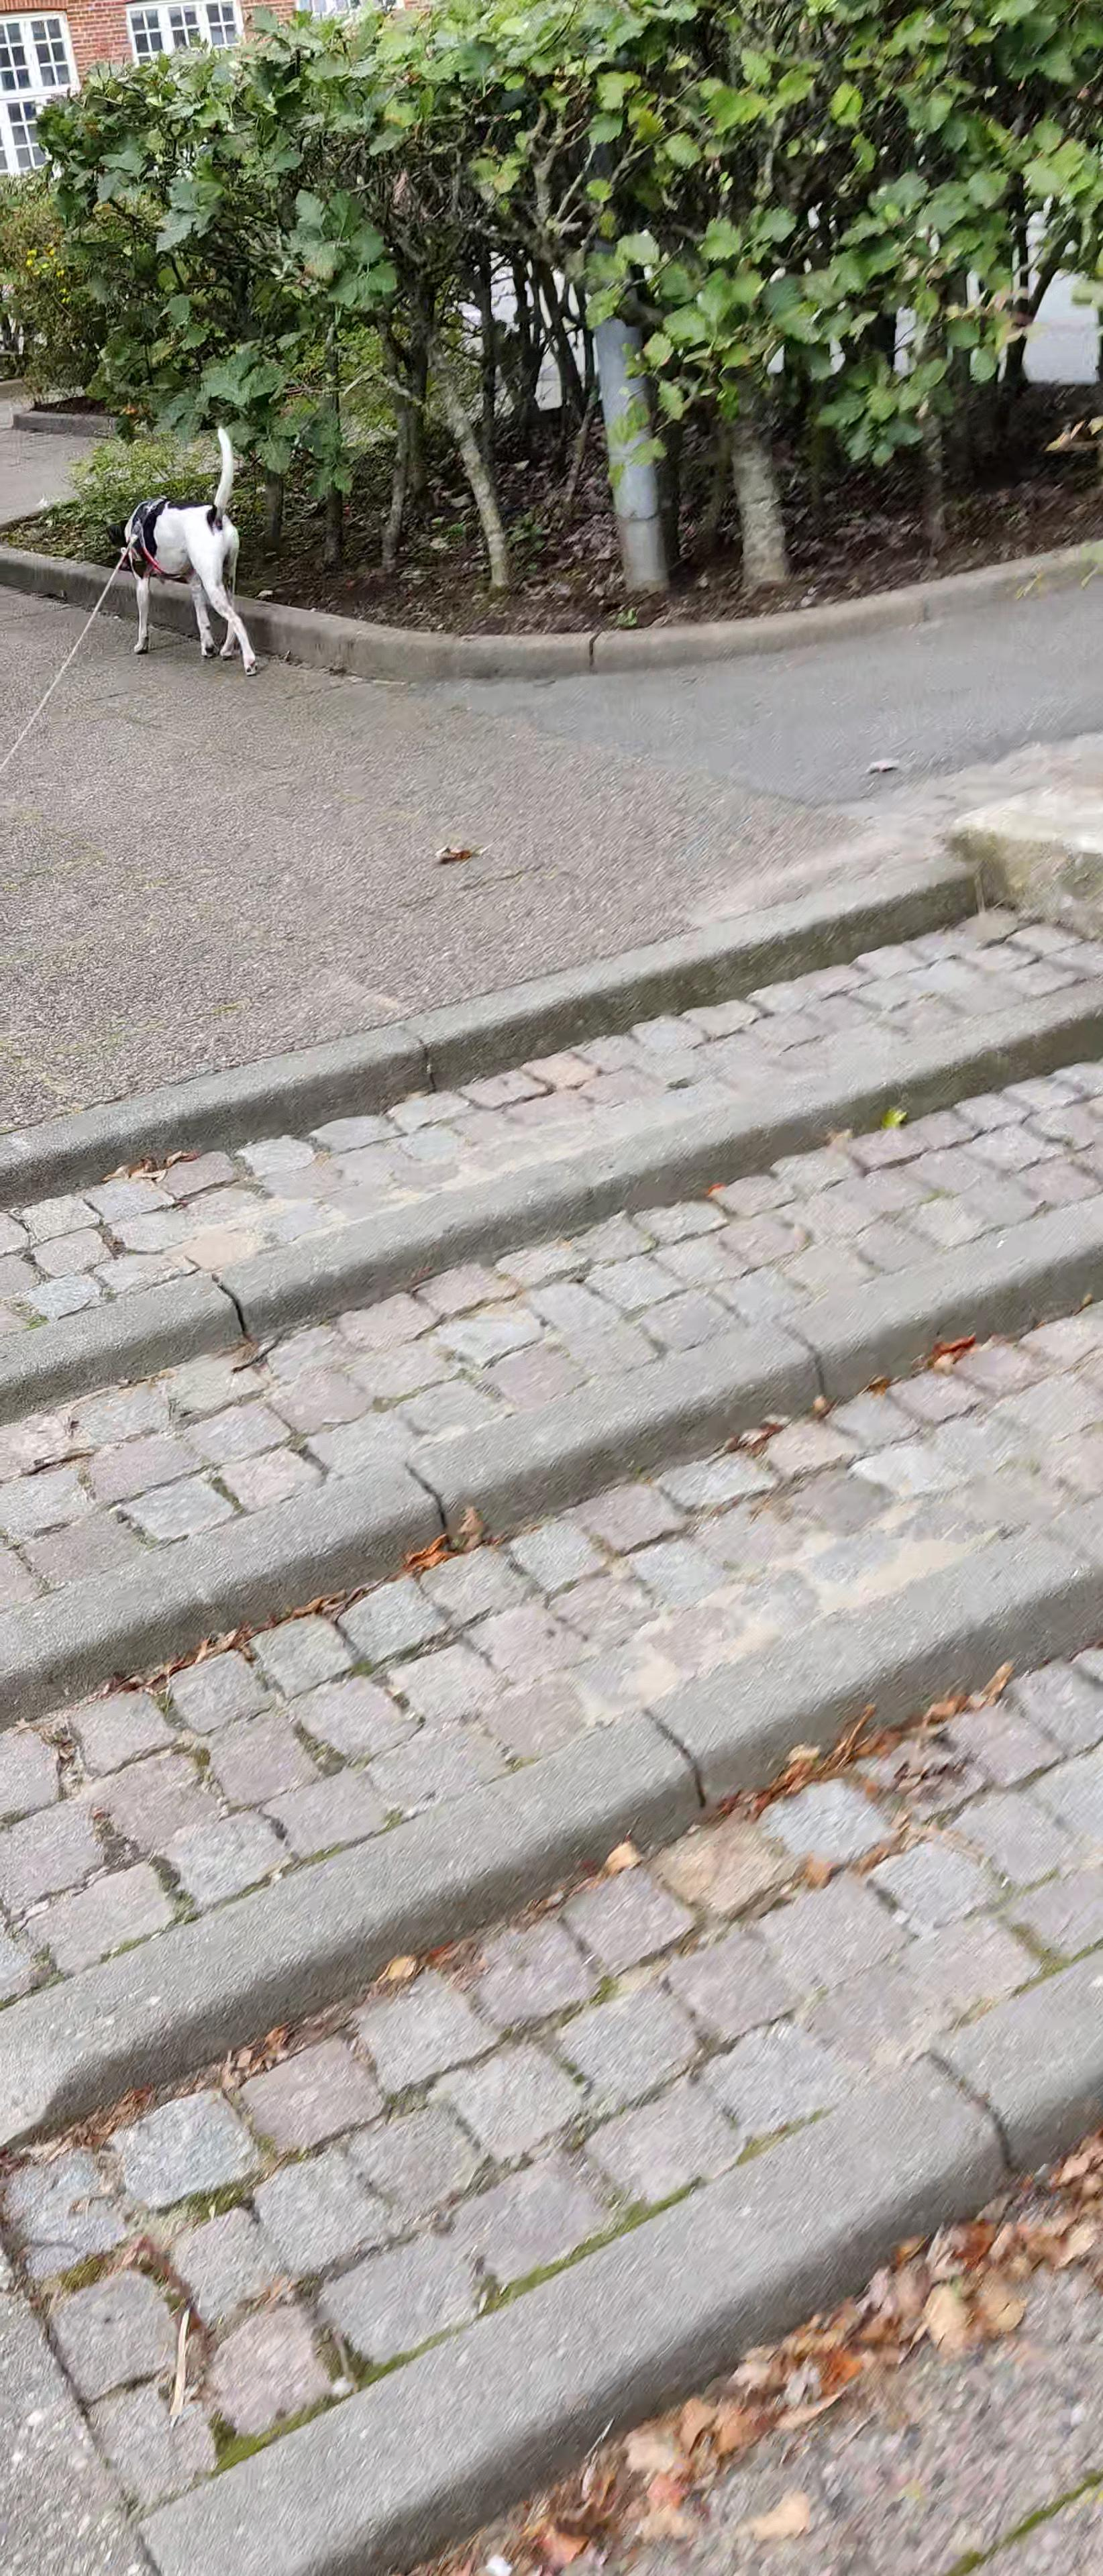Dog: (95, 421, 265, 678)
